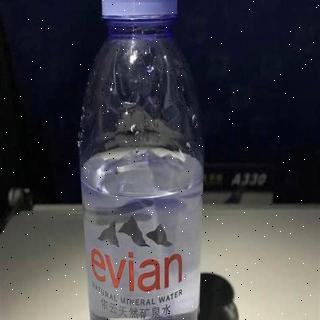Plastic-bottle: (72, 1, 208, 320)
